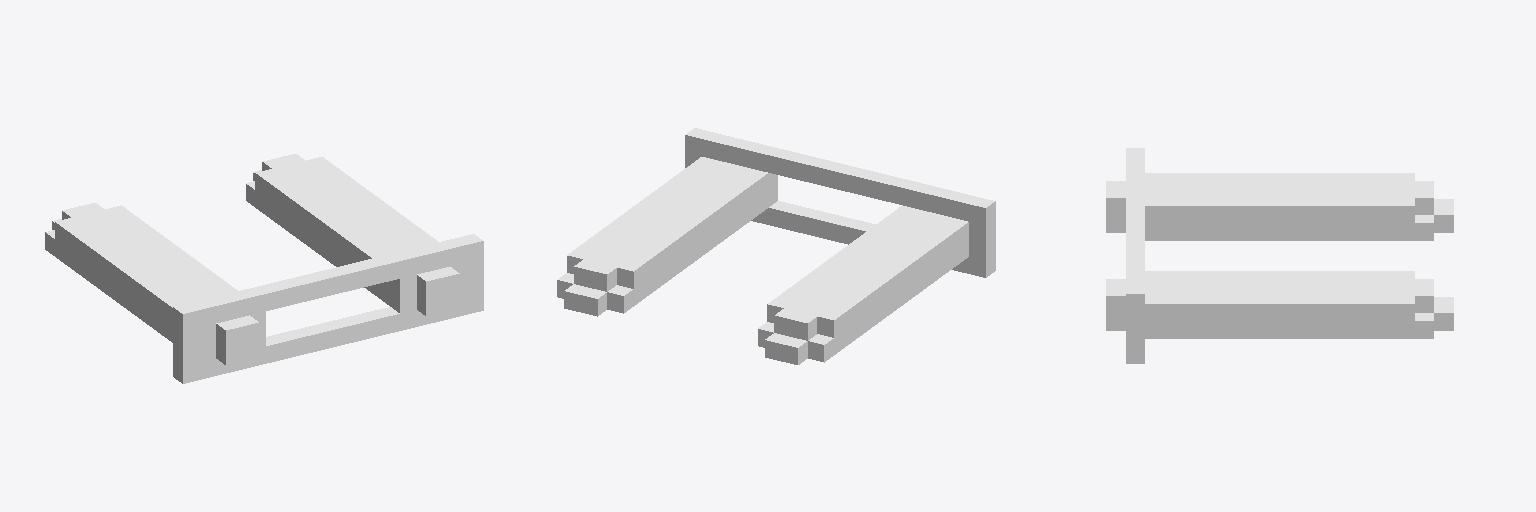
Rendered from Lift.obj.
3 renders of one model, left to right at view 1: azimuth 30°, elevation 25°; view 2: azimuth 150°, elevation 25°; view 3: azimuth 270°, elevation 25°, orthographic.
Visible parts, largest first — view 1: Lift; view 2: Lift; view 3: Lift.
Part boxes in pixels (bbox=[...]): Lift: bbox=[45, 154, 483, 383]; Lift: bbox=[557, 128, 995, 364]; Lift: bbox=[1106, 148, 1453, 363].
Size of the model in its own units: 18 by 4 by 18.